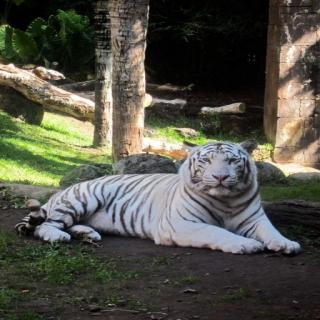Tiger: (18, 127, 314, 272)
